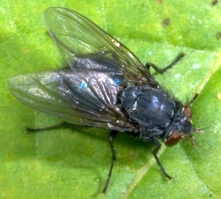fly: (8, 6, 205, 196)
